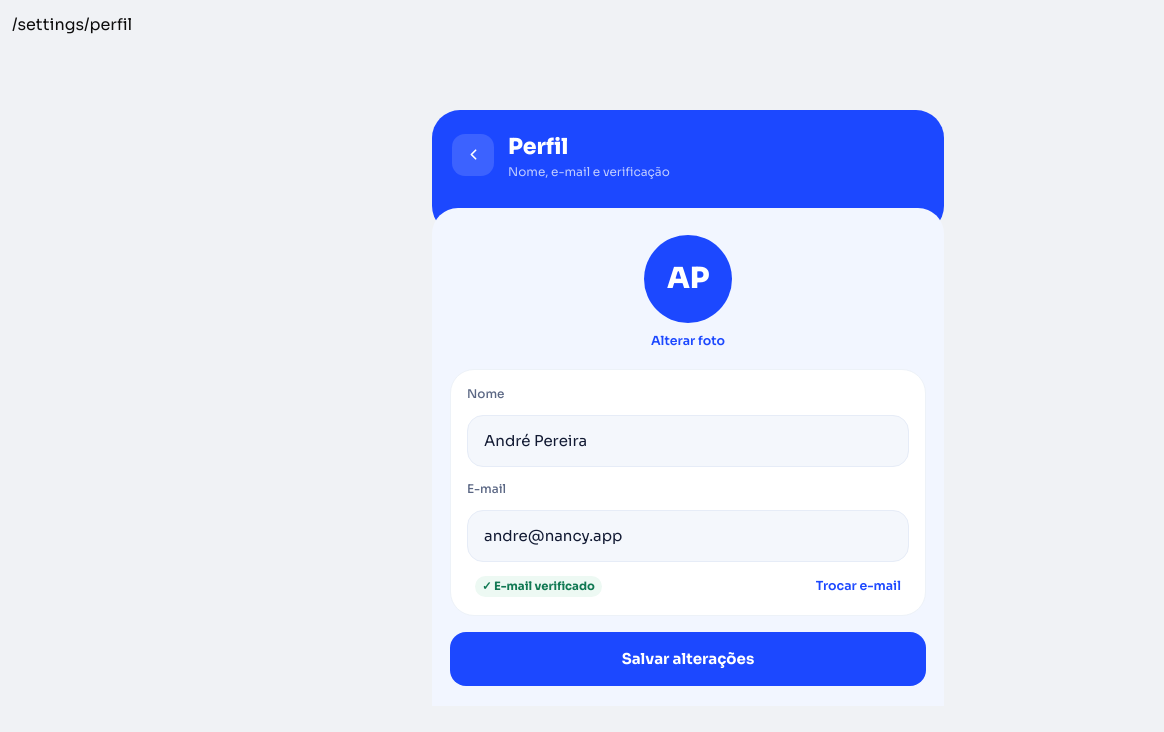
Scenario: Dados pessoais › erro do servidor aparece e o nome digitado continua
Replace the text in the field labelled "Nome" with "Novo Nome". click: (688, 441)
box: [467,415,909,467]
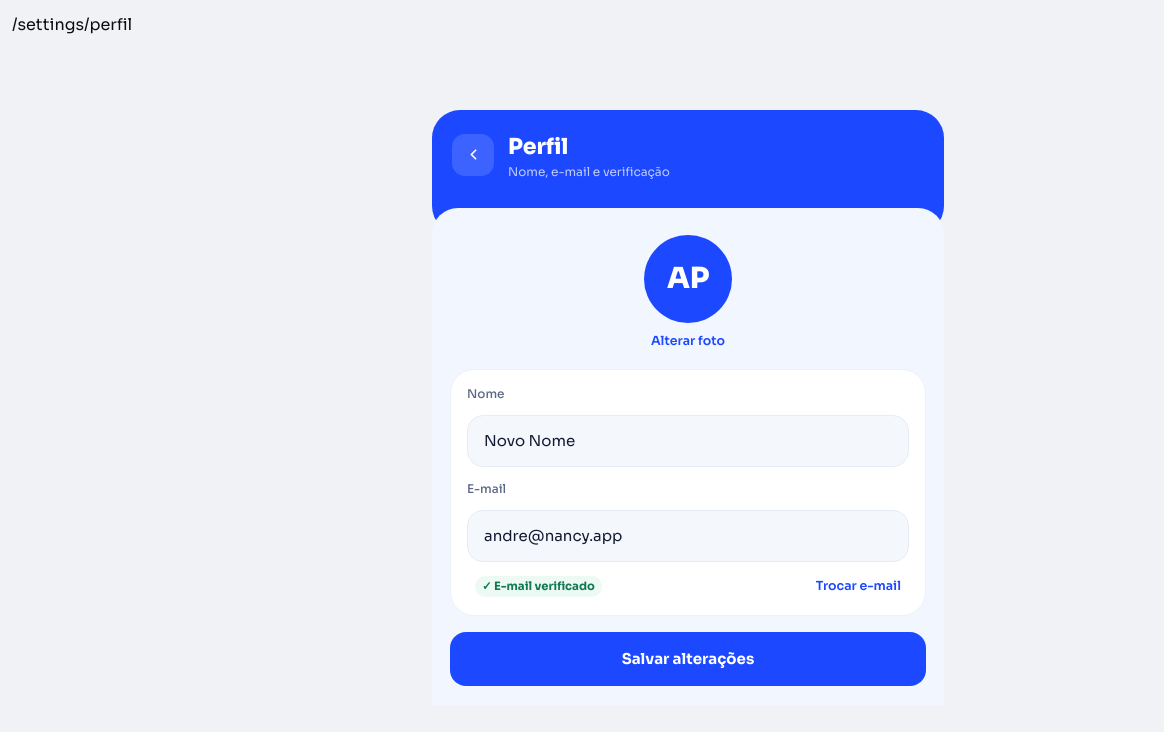
Click the button "Salvar alterações". click: (688, 659)
box: [450,632,926,686]
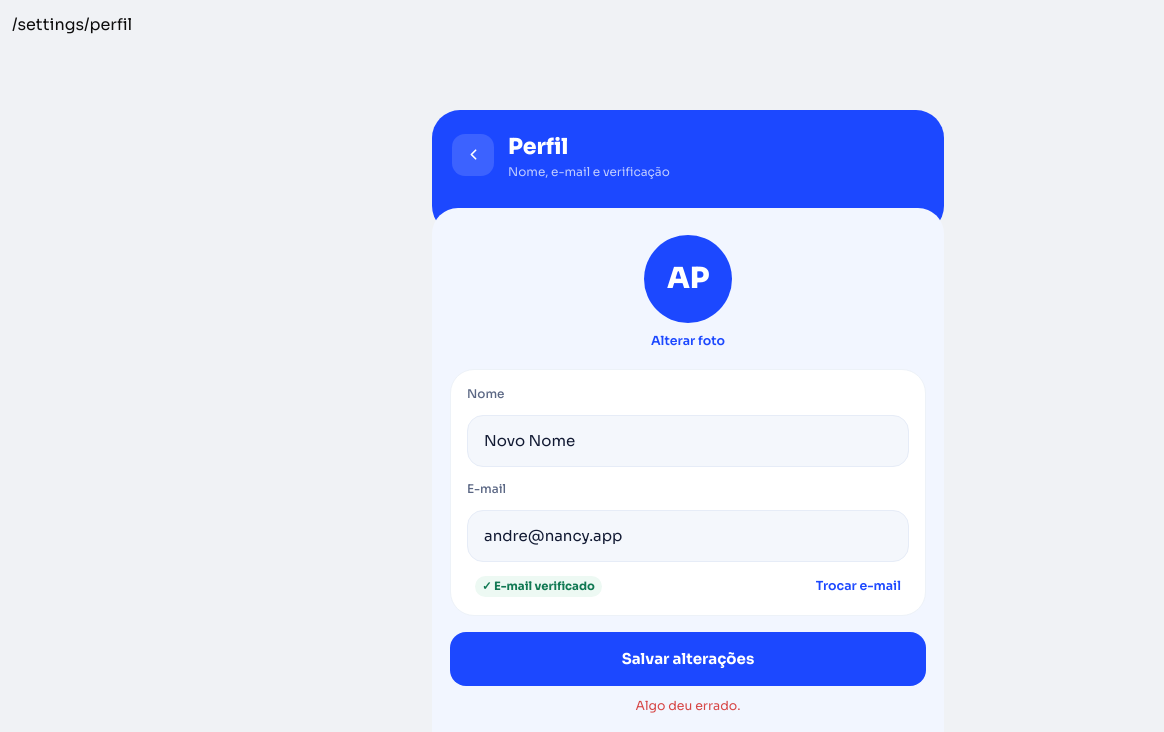
Expected: the text "Algo deu errado." is shown, [636,698,740,714]
